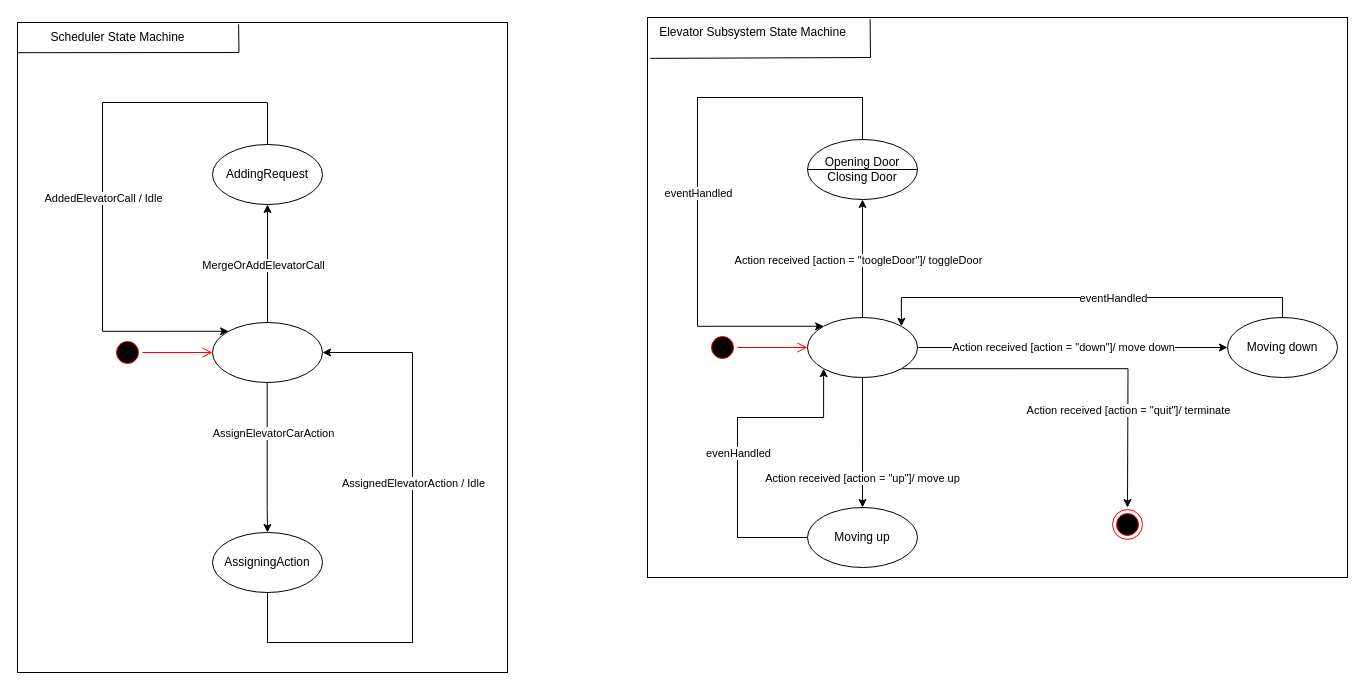
Image size: 1365x690. Some labels were removed from this diagram. The shapes that lost their labels are listed below. From the top down, each one's centre as x and y in pixels, then its label:
At (x=267, y=352): "WaitingForRequests".
At (x=862, y=347): "Idle".
